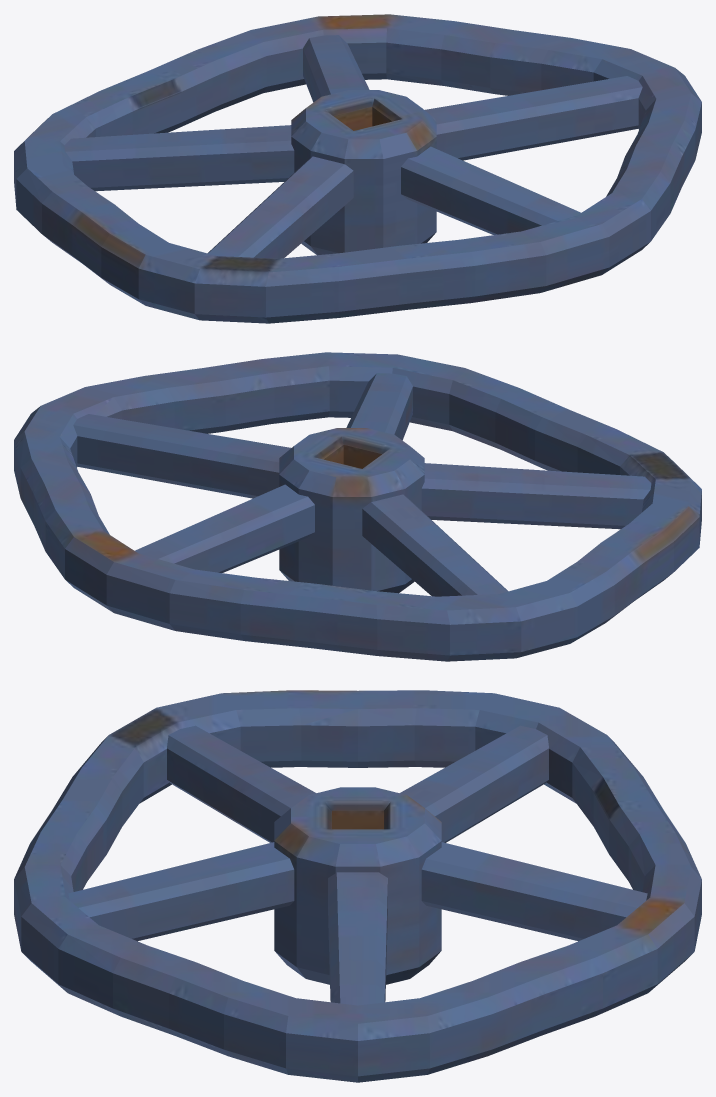
Rendered from P20_colored_valve_handles_v2.glb.
The picture shows the model from 3 angles, top to bottom: view 1: azimuth 30°, elevation 25°; view 2: azimuth 150°, elevation 25°; view 3: azimuth 270°, elevation 25°; orthographic projection. The views are drawn at different scales.
Parts seen in each view (by area): view 1: Valve handwheel; view 2: Valve handwheel; view 3: Valve handwheel.
Part boxes in pixels (x1=…): Valve handwheel: x1=14, y1=14, x2=701, y2=323; Valve handwheel: x1=14, y1=352, x2=701, y2=661; Valve handwheel: x1=14, y1=690, x2=701, y2=1082.
Bounding box in the file's own units: 0.2 × 0.0382 × 0.1688.
3 materials, 3 textured.
